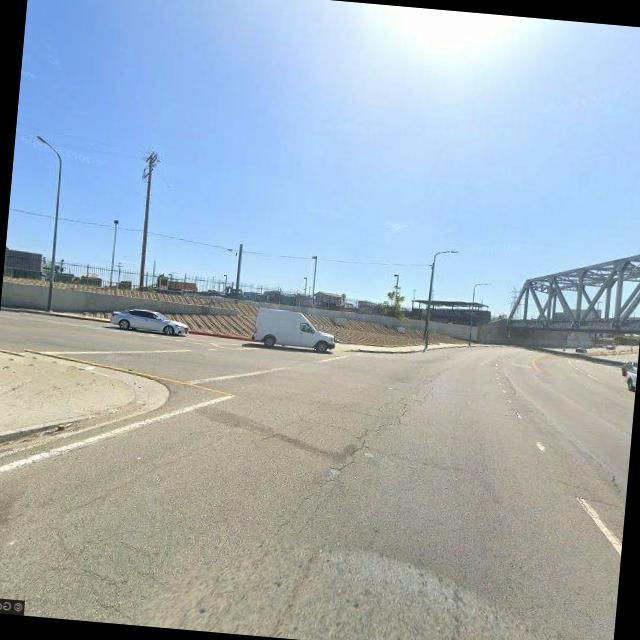pothole: (322, 368, 441, 489)
